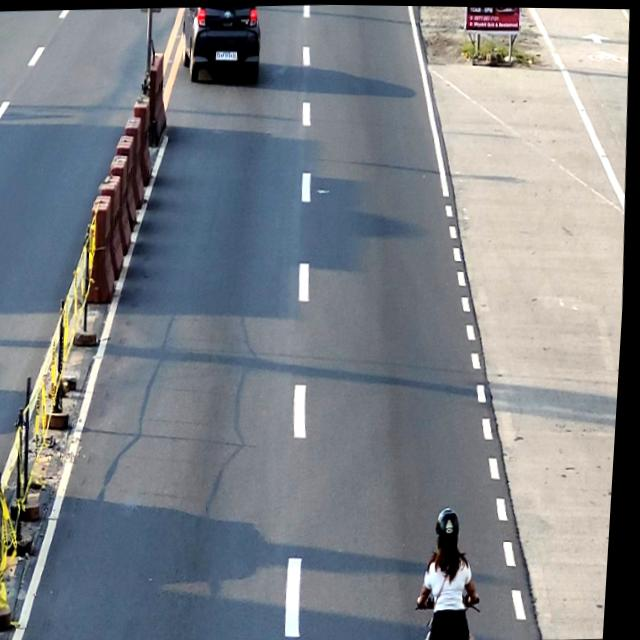Car: (179, 4, 263, 84)
License-Plate: (219, 50, 234, 59)
